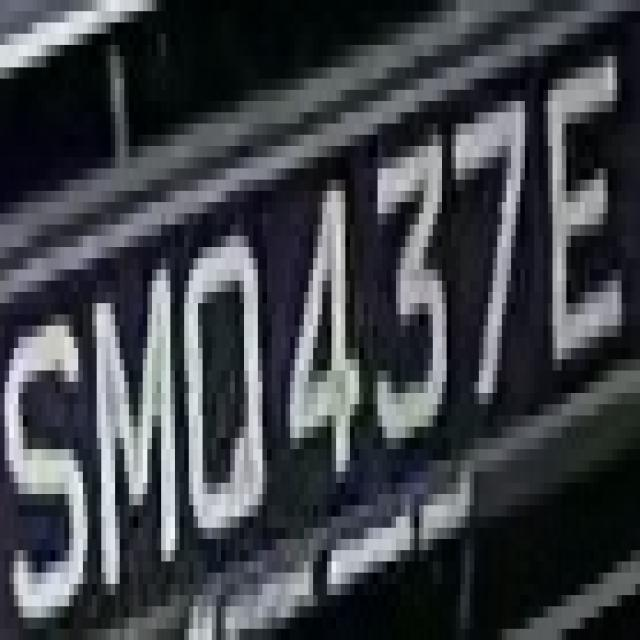3: (368, 123, 465, 483)
4: (272, 157, 373, 505)
7: (446, 90, 538, 460)
E: (539, 56, 635, 393)
M: (87, 224, 175, 606)
Q: (184, 191, 272, 561)
S: (5, 247, 92, 629)
